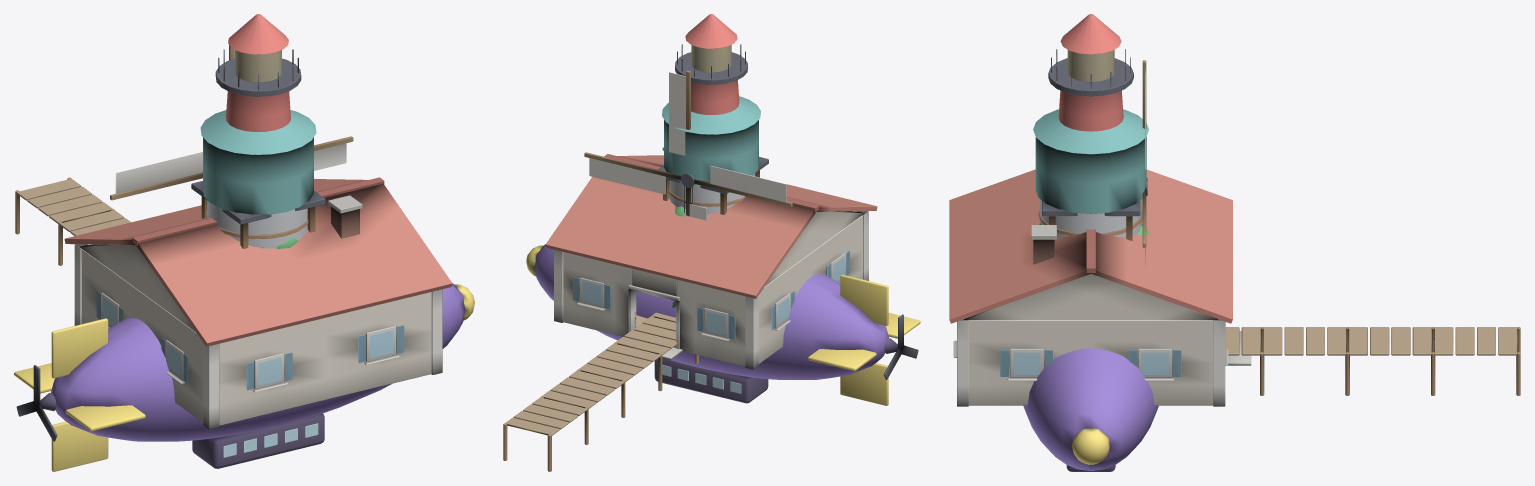
Rendered from stormfall.glb.
3 renders of one model, left to right at view 1: azimuth 30°, elevation 25°; view 2: azimuth 150°, elevation 25°; view 3: azimuth 270°, elevation 25°, orthographic. The views are drawn at different scales.
Parts seen in each view (by area): view 1: House, Airship, HouseWall_B, WaterTower, HouseWall_L, Lighthouse, Dock, MillBlades, Silo, Prop; view 2: House, Airship, HouseWall_F, Dock, WaterTower, MillBlades, HouseWall_L, Lighthouse, Silo, Prop; view 3: House, HouseWall_R, Airship, WaterTower, Dock, Lighthouse, Silo, MillBlades.
Part boxes in pixels (x1,y1,x2,y2): House: (64,177,452,429); Airship: (14,283,474,471); HouseWall_B: (219,292,431,425); WaterTower: (191,110,325,248); HouseWall_L: (81,249,203,422); Lighthouse: (215,14,301,131); Dock: (15,177,130,265); MillBlades: (110,45,353,200); Silo: (206,200,308,248); Prop: (16,365,57,441); House: (545,147,877,369); Airship: (526,244,920,405); HouseWall_F: (563,252,745,366); Dock: (503,312,698,471); WaterTower: (658,96,768,214); MillBlades: (584,70,792,220); HouseWall_L: (758,215,862,363); Lighthouse: (675,14,747,114); Silo: (668,174,755,214); Prop: (883,314,918,379); House: (949,169,1251,406); HouseWall_R: (968,320,1213,405); Airship: (1023,348,1158,471); WaterTower: (1033,109,1148,240); Dock: (1225,327,1520,395); Lighthouse: (1048,14,1133,131); Silo: (1038,199,1142,237); MillBlades: (1142,60,1147,265).
Size of the model in its own units: 23.46 by 22.3 by 26.75.
